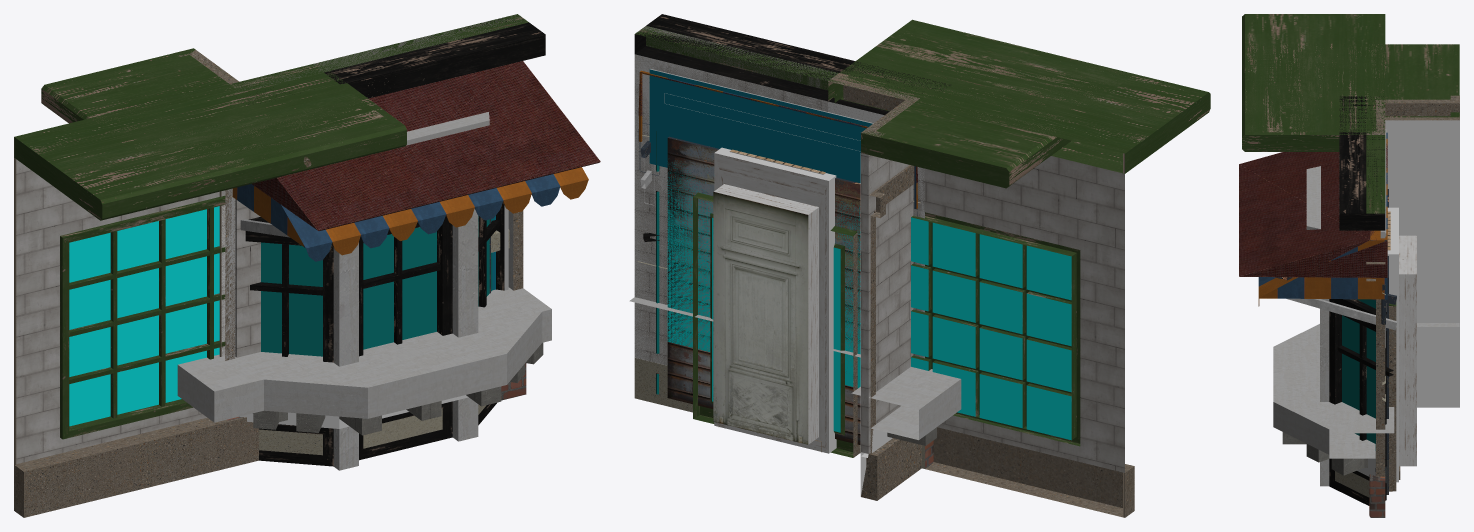
Rendered from Building04.fbx.
3 renders of one model, left to right at view 1: azimuth 30°, elevation 25°; view 2: azimuth 150°, elevation 25°; view 3: azimuth 270°, elevation 25°, orthographic. The views are drawn at different scales.
Parts seen in each view (by area): view 1: Building04_WallBottom_A, Building04_Wall_A, Building04_WallBottom_E, Building04_WallTop_A, Building04_WallBottom_D, Building04_CornerBottom_B, Building04_CornerTop_A, Building04_WallBottom_B, Building04_WallBottom_C, Building04_Wall_B, Building04_WallTop_B, Building04_WallBottom_F; view 2: Building04_WallBottom_A, Building04_WallBottom_C, Building04_CornerBottom_B, Building04_WallBottom_B, Building04_WallBottom_D, Building04_WallBottom_E, Building04_WallBottom_F, Building04_CornerTop_A, Building04_CornerBottom_A, Building04_Corner_A, Building04_WallTop_B, Building04_Wall_A; view 3: Building04_WallBottom_A, Building04_WallBottom_E, Building04_CornerBottom_B, Building04_Corner_A, Building04_WallBottom_D, Building04_WallTop_A, Building04_CornerBottom_A, Building04_Wall_A, Building04_WallBottom_C, Building04_WallBottom_B, Building04_WallTop_B, Building04_Wall_B (+2 smaller).
Boxes of the visible parts, <box> form: Building04_WallBottom_A: <box>14,64,400,517</box>; Building04_Wall_A: <box>225,188,519,470</box>; Building04_WallBottom_E: <box>222,61,600,278</box>; Building04_WallTop_A: <box>222,287,551,455</box>; Building04_WallBottom_D: <box>222,14,588,427</box>; Building04_CornerBottom_B: <box>41,48,406,465</box>; Building04_CornerTop_A: <box>177,354,253,422</box>; Building04_WallBottom_B: <box>219,14,528,356</box>; Building04_WallBottom_C: <box>221,15,521,355</box>; Building04_Wall_B: <box>224,189,523,360</box>; Building04_WallTop_B: <box>253,288,551,421</box>; Building04_WallBottom_F: <box>221,205,508,355</box>; Building04_WallBottom_A: <box>834,21,1210,517</box>; Building04_WallBottom_C: <box>634,26,924,453</box>; Building04_CornerBottom_B: <box>828,19,1134,500</box>; Building04_WallBottom_B: <box>634,26,924,457</box>; Building04_WallBottom_D: <box>634,14,950,468</box>; Building04_WallBottom_E: <box>634,54,922,444</box>; Building04_WallBottom_F: <box>634,56,924,358</box>; Building04_CornerTop_A: <box>851,369,961,457</box>; Building04_CornerBottom_A: <box>828,73,919,496</box>; Building04_Corner_A: <box>866,165,914,465</box>; Building04_WallTop_B: <box>630,297,922,453</box>; Building04_Wall_A: <box>643,131,659,394</box>; Building04_WallBottom_A: <box>1242,14,1385,134</box>; Building04_WallBottom_E: <box>1239,143,1396,494</box>; Building04_CornerBottom_B: <box>1242,44,1459,151</box>; Building04_Corner_A: <box>1387,171,1450,407</box>; Building04_WallBottom_D: <box>1258,96,1396,517</box>; Building04_WallTop_A: <box>1273,324,1394,497</box>; Building04_CornerBottom_A: <box>1366,95,1459,407</box>; Building04_Wall_A: <box>1320,262,1393,505</box>; Building04_WallBottom_C: <box>1306,166,1416,482</box>; Building04_WallBottom_B: <box>1366,96,1396,491</box>; Building04_WallTop_B: <box>1329,404,1394,467</box>; Building04_Wall_B: <box>1366,211,1390,476</box>.
Bounding box in the file's own units: 507 × 360 × 237.
